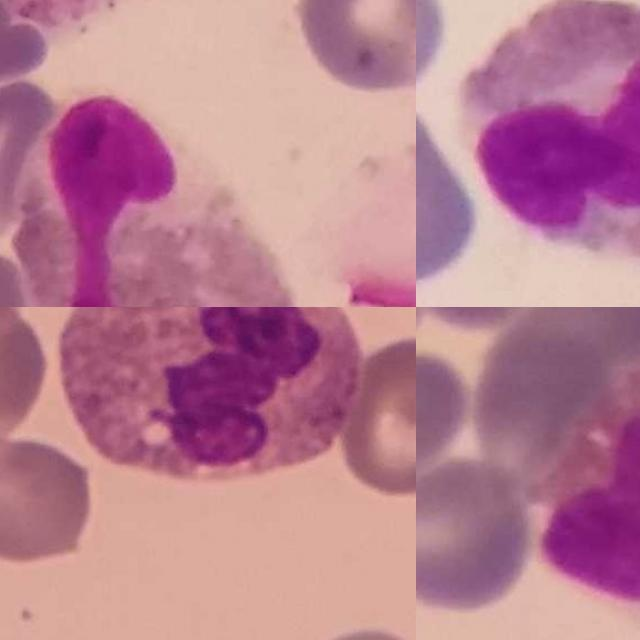Eosinophil: (21, 86, 297, 307), (457, 0, 640, 265), (543, 357, 640, 640)
Neutrophil: (57, 307, 362, 478)
